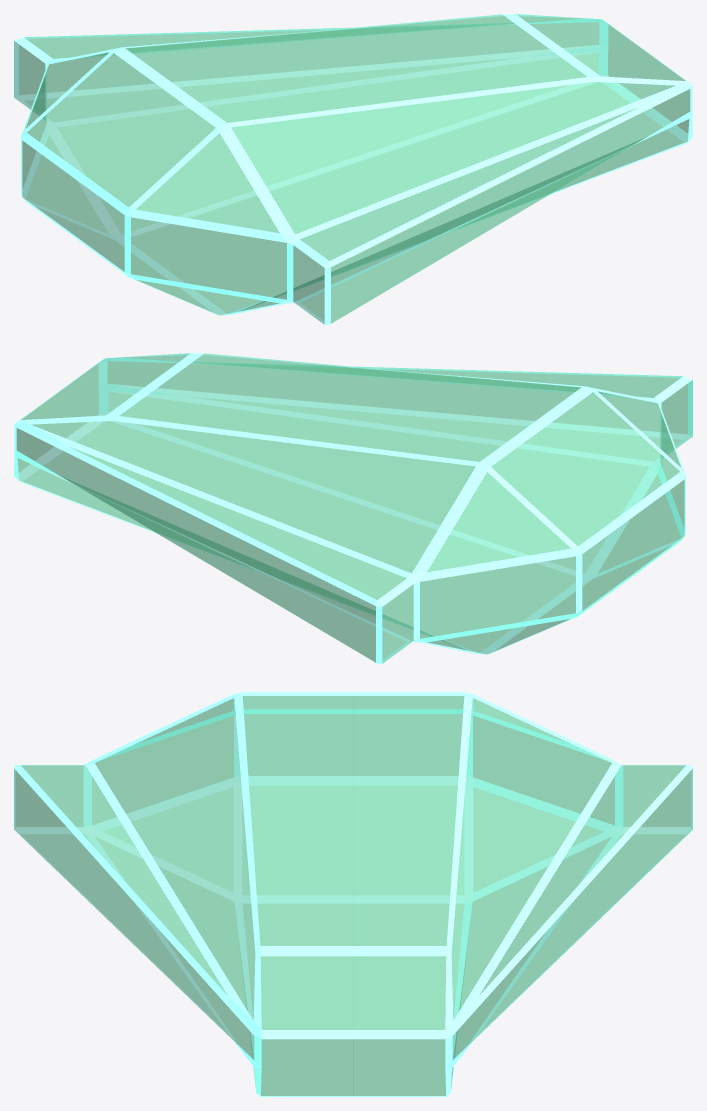
Rendered from space_shooter_player.glb.
3 views of the same model, one above another, from view 1: azimuth 30°, elevation 25°; view 2: azimuth 150°, elevation 25°; view 3: azimuth 270°, elevation 25° (orthographic). The views are drawn at different scales.
Visible parts, largest first — view 1: Cube; view 2: Cube; view 3: Cube.
Part boxes in pixels (x1,y1,x2,y2): Cube: (14,14,692,324); Cube: (14,353,692,663); Cube: (14,692,692,1096).
Size of the model in its own units: 6.27 by 1.98 by 5.88.
